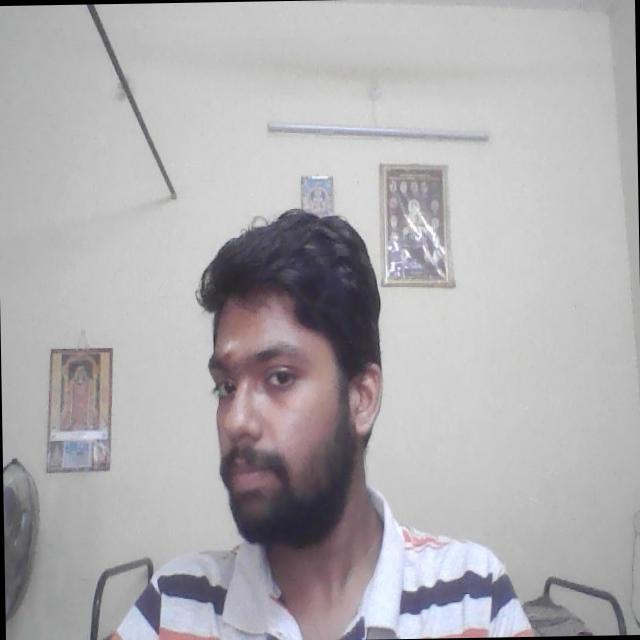Focused: (203, 310, 339, 514)
